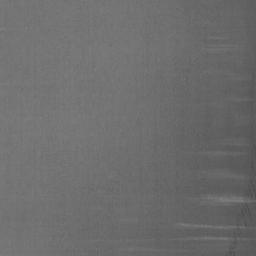Waist folding: (191, 193, 256, 207), (176, 221, 256, 231), (153, 235, 256, 242), (205, 144, 256, 157), (97, 246, 186, 253), (202, 172, 256, 180), (210, 35, 230, 45), (234, 96, 256, 103), (207, 48, 230, 54), (190, 168, 222, 171)
